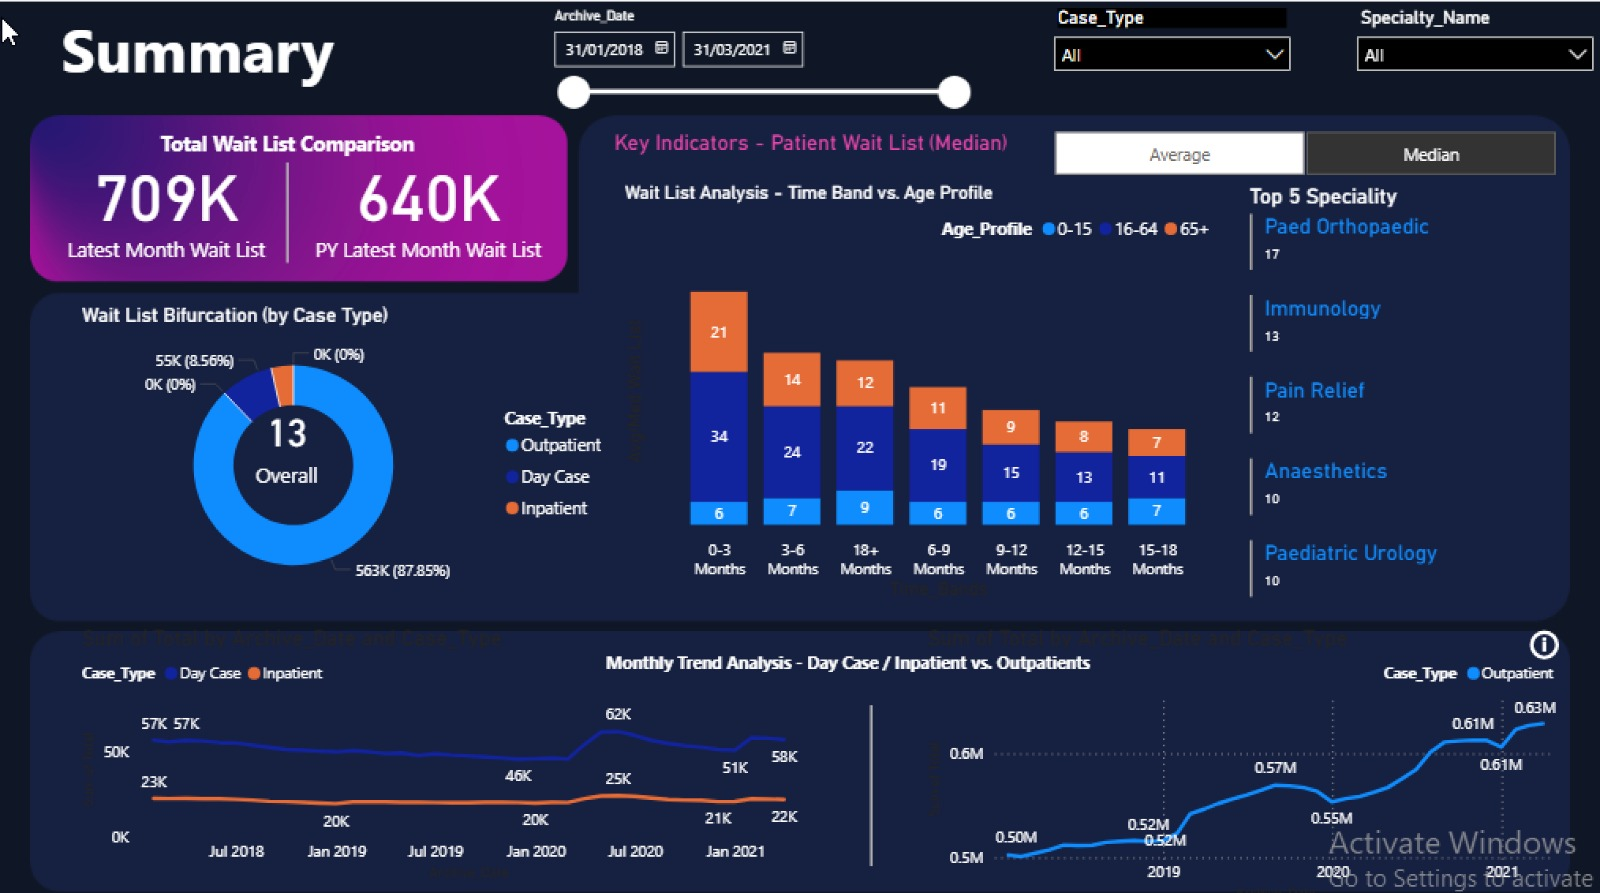

What the dashboard file says about the page in this screenshot:
{"tool":"powerbi","page":{"name":"Summary","canvas":[1280,720],"ordinal":0},"visuals":[{"type":"card","fields":{"Values":["All_Data.Latest_Month_Wait_List"]},"box":[0,96,272,128],"z":0},{"type":"card","fields":{"Values":["All_Data.PY_Latest_Month_Wait_List"]},"box":[208,96,272,128],"z":1000},{"type":"slicer","fields":{"Values":["Calculation Method.Calc Method"]},"box":[816,96,448,48],"z":2000},{"type":"donutChart","title":"Wait List Bifurcation (by Case Type)","fields":{"Category":["All_Data.Case_Type"],"Y":["All_Data.Avg/Med Wait List","All_Data.PY Latest Month Wait List"]},"box":[64,240,432,240],"z":3000},{"type":"columnChart","title":"Wait List Analysis - Time Band vs. Age Profile","fields":{"Y":["All_Data.Avg/Med Wait List"],"Category":["All_Data.Time_Bands"],"Series":["All_Data.Age_Profile"]},"box":[496,144,480,336],"z":4000},{"type":"multiRowCard","title":"Top 5 Speciality","fields":{"Values":["All_Data.Specialty_Name","All_Data.Avg/Med Wait List"]},"box":[992,144,256,368],"z":5000},{"type":"lineChart","fields":{"Category":["All_Data.Archive_Date"],"Y":["Sum(All_Data.Total)"],"Series":["All_Data.Case_Type"]},"box":[64,496,592,208],"z":6000},{"type":"lineChart","fields":{"Category":["All_Data.Archive_Date"],"Y":["Sum(All_Data.Total)"],"Series":["All_Data.Case_Type"]},"box":[736,496,512,224],"z":7000},{"type":"slicer","fields":{"Values":["All_Data.Archive_Date"]},"box":[432,0,352,96],"z":8000},{"type":"slicer","fields":{"Values":["All_Data.Case_Type"]},"box":[832,0,208,64],"z":9000},{"type":"slicer","fields":{"Values":["All_Data.Specialty_Name"]},"box":[1072,0,208,64],"z":10000},{"type":"textbox","box":[48,0,336,80],"z":11000},{"type":"card","fields":{"Values":["All_Data.Avg/Med Wait List"]},"box":[176,304,112,96],"z":12000},{"type":"shape","box":[80,128,304,80],"z":13000},{"type":"textbox","box":[80,96,304,48],"z":14000},{"type":"textbox","box":[480,512,400,48],"z":15000},{"type":"shape","box":[544,560,304,128],"z":16000},{"type":"card","fields":{"Values":["All_Data.Dynamic Title"]},"box":[464,80,368,64],"z":17000},{"type":"actionButton","box":[1216,496,64,32],"z":18000}]}

Visuals, with their boxes in screenshot pixels (x1, y1, x2, y2), scaled from the page's 1280x720 canvas onto the 1600x893 screenshot:
card - All_Data.Latest_Month_Wait_List: 0 119 340 278
card - All_Data.PY_Latest_Month_Wait_List: 260 119 600 278
slicer - Calculation Method.Calc Method: 1020 119 1580 179
"Wait List Bifurcation (by Case Type)" donutChart: 80 298 620 595
"Wait List Analysis - Time Band vs. Age Profile" columnChart: 620 179 1220 595
"Top 5 Speciality" multiRowCard: 1240 179 1560 635
lineChart - All_Data.Archive_Date x Sum(All_Data.Total): 80 615 820 873
lineChart - All_Data.Archive_Date x Sum(All_Data.Total): 920 615 1560 892
slicer - All_Data.Archive_Date: 540 0 980 119
slicer - All_Data.Case_Type: 1040 0 1300 79
slicer - All_Data.Specialty_Name: 1340 0 1599 79
textbox: 60 0 480 99
card - All_Data.Avg/Med Wait List: 220 377 360 496
shape: 100 159 480 258
textbox: 100 119 480 179
textbox: 600 635 1100 695
shape: 680 695 1060 853
card - All_Data.Dynamic Title: 580 99 1040 179
actionButton: 1520 615 1599 655
